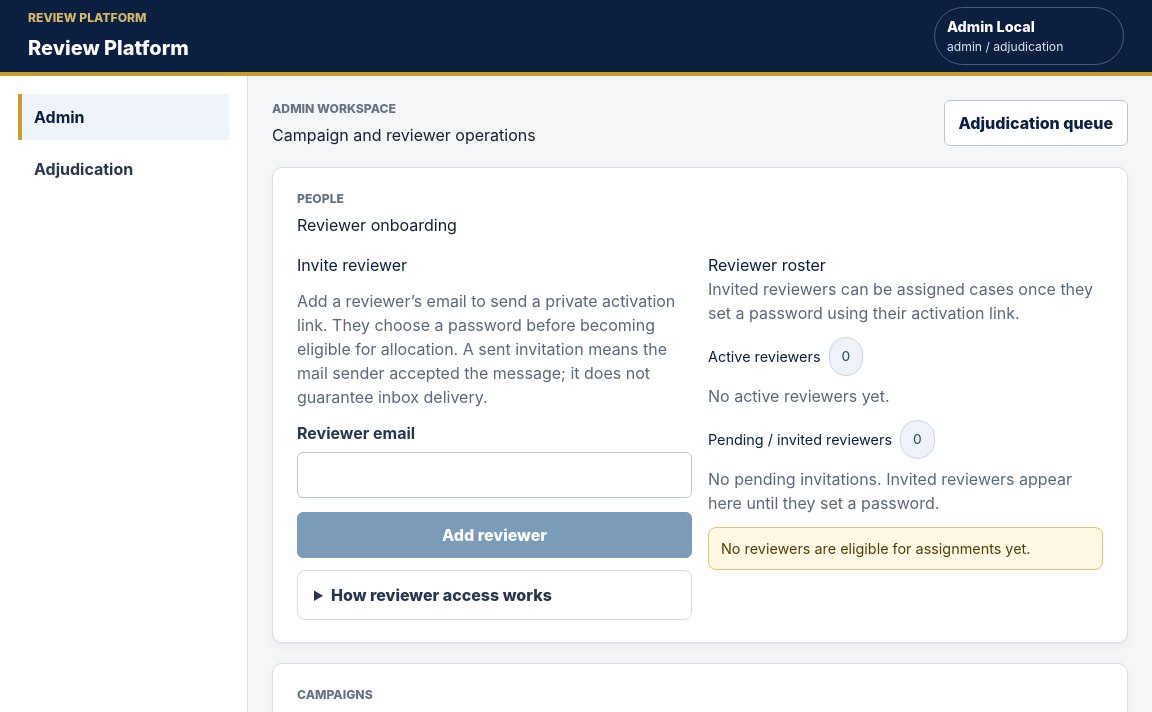
Test: admin dashboard reviewer invitation › shows not-sent copy and never claims delivery when the reviewer is already active
Step 1. Type "already-active@example.test" into the field labelled "Reviewer email" → (494, 476), box [297, 452, 692, 498]
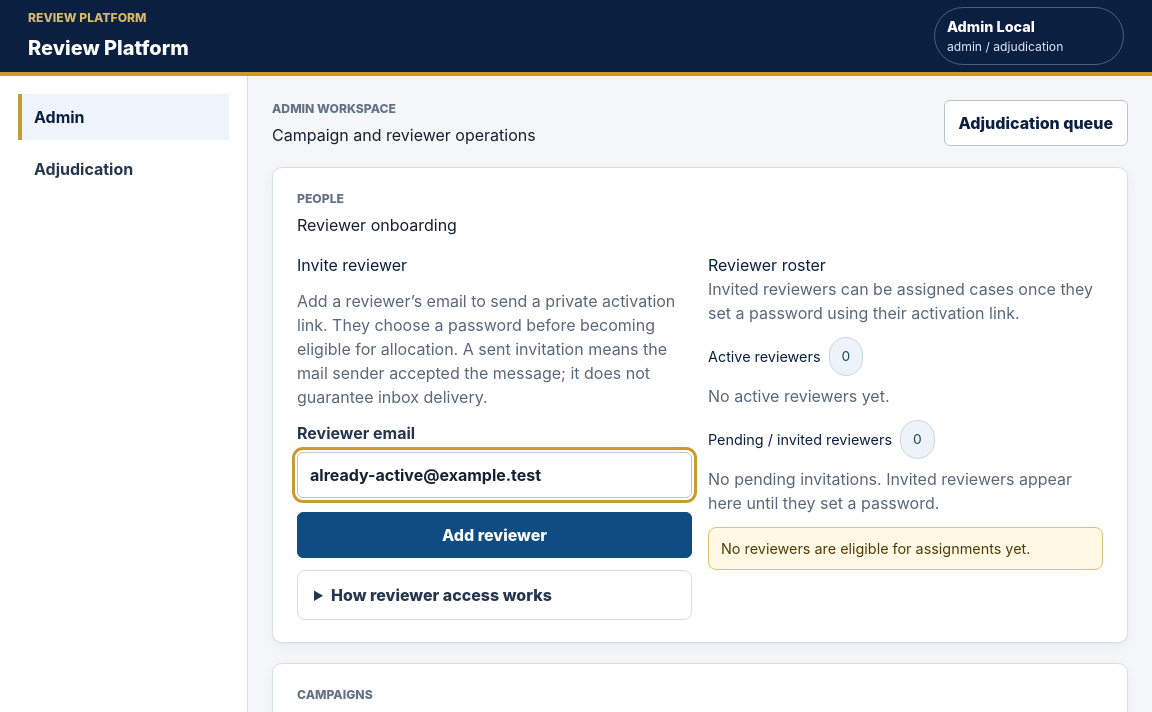
Step 2. Click the button "Add reviewer" → click(494, 536), box [297, 512, 692, 558]
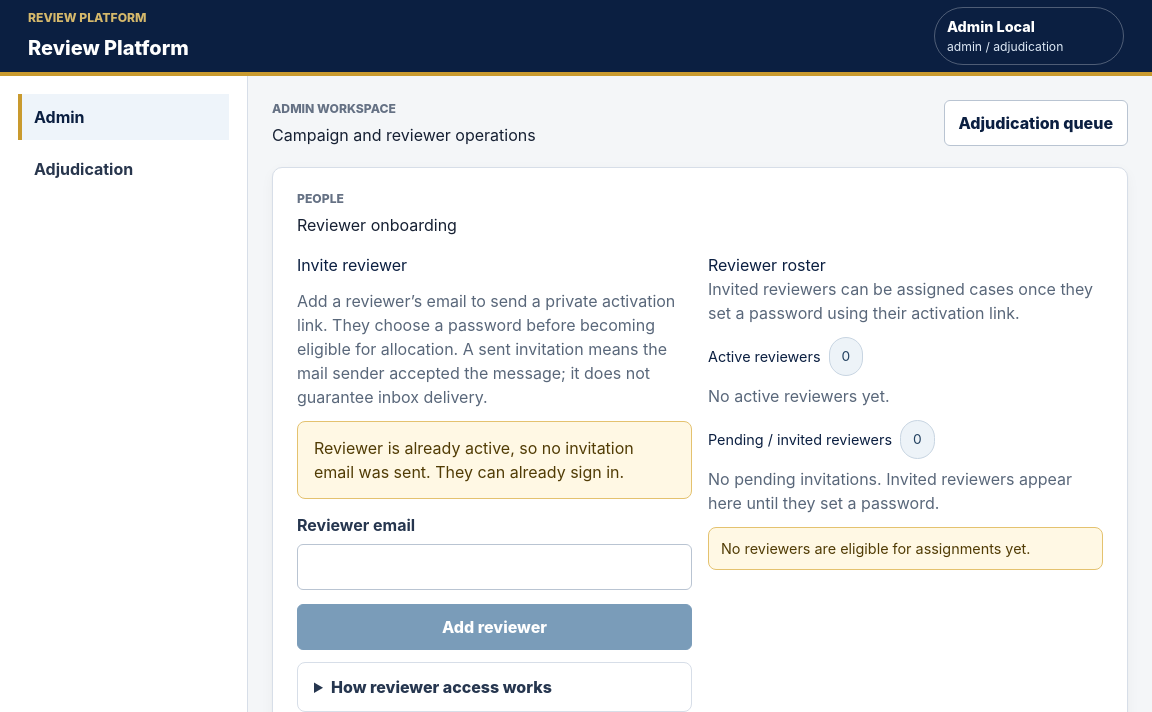
Check: the text "already active, so no invitation email was sent" is shown, box [314, 438, 634, 482]
